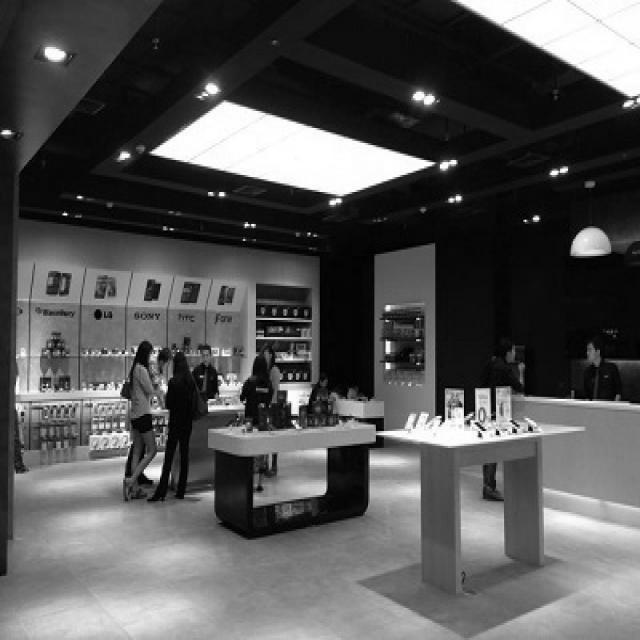table: (400, 398, 573, 469), (124, 367, 280, 424), (210, 428, 386, 466)
